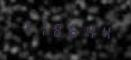eight: (50, 19, 65, 39)
four: (82, 20, 97, 41), (98, 21, 113, 42)
one: (17, 17, 32, 38), (33, 18, 48, 39)
six: (66, 20, 81, 40)
